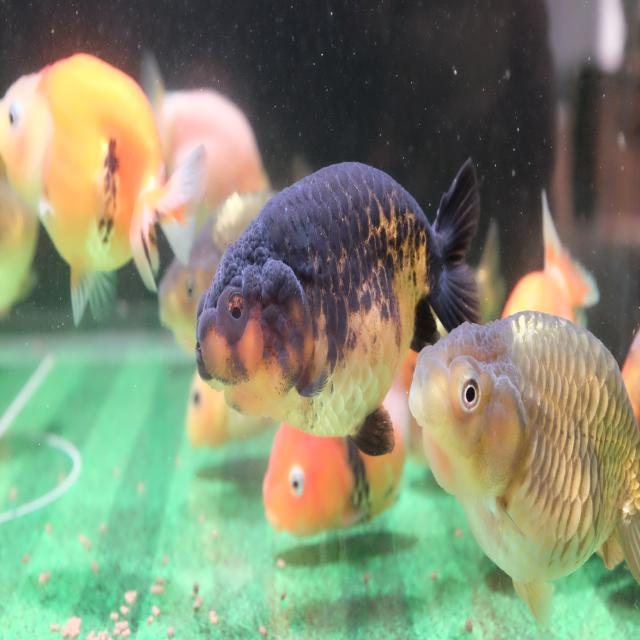Tilapia: (194, 156, 483, 456), (408, 309, 640, 636), (1, 52, 208, 330), (262, 341, 428, 538)
